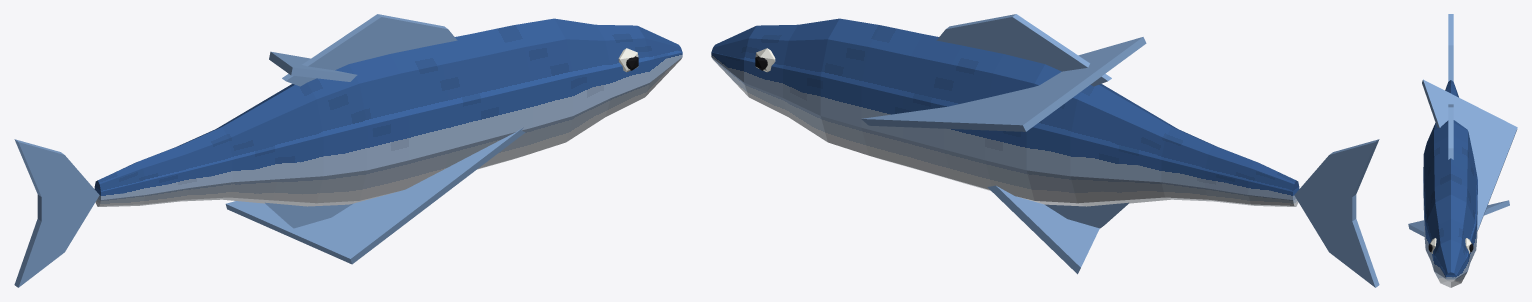
File: flying_fish.glb
3 views of the same model, side by side, from view 1: azimuth 30°, elevation 25°; view 2: azimuth 150°, elevation 25°; view 3: azimuth 270°, elevation 25° (orthographic). The views are drawn at different scales.
Parts seen in each view (by area): view 1: fish_flying_fish; view 2: fish_flying_fish; view 3: fish_flying_fish.
Part boxes in pixels (left/top/right/bottom): fish_flying_fish: left=14, top=14, right=682, bottom=287; fish_flying_fish: left=711, top=14, right=1379, bottom=287; fish_flying_fish: left=1408, top=14, right=1517, bottom=287.
Size of the model in its own units: 1.14 by 0.3484 by 0.2459.
Materials: 4 (1 with a texture image).
